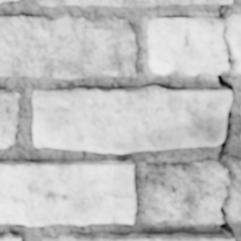brick: (33, 85, 229, 152), (0, 160, 134, 224), (0, 15, 135, 77), (43, 232, 232, 240), (0, 89, 18, 147), (37, 0, 231, 5), (0, 232, 19, 240)
broken_brick: (142, 158, 227, 224), (147, 15, 226, 75), (228, 155, 240, 220), (229, 12, 240, 57), (234, 65, 240, 72)
crack: (209, 2, 240, 238)
